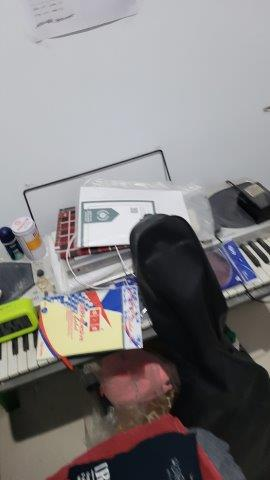kertas: (73, 182, 188, 243), (34, 1, 146, 52)
